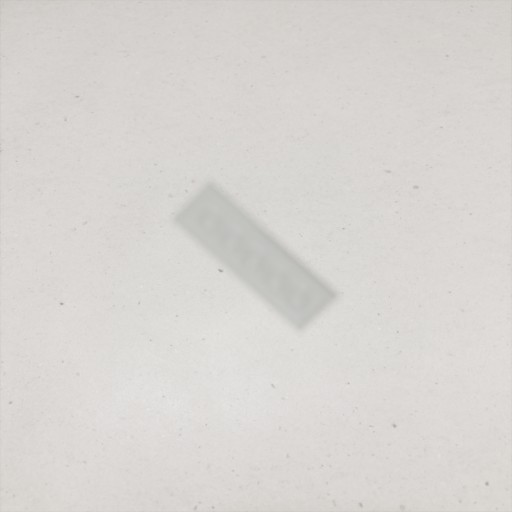lego: (170, 179, 340, 334)
